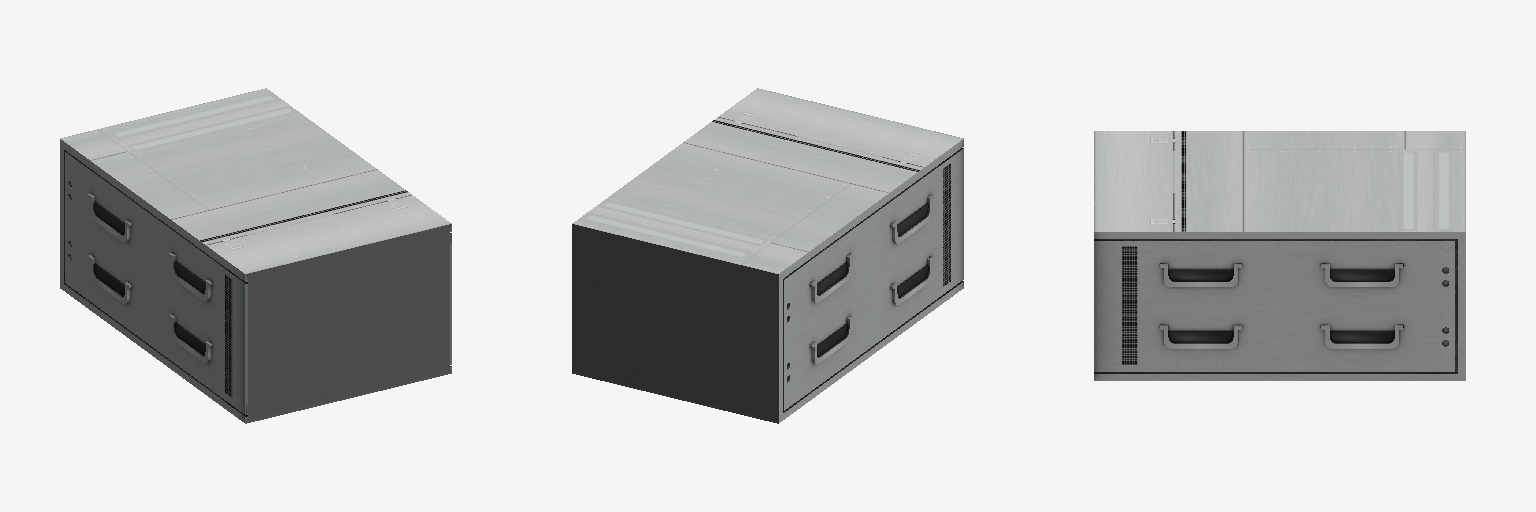
3 views of the same model, side by side, from view 1: azimuth 30°, elevation 25°; view 2: azimuth 150°, elevation 25°; view 3: azimuth 270°, elevation 25° (orthographic).
Parts seen in each view (by area): view 1: Box04; view 2: Box04; view 3: Box04.
Boxes of the visible parts, x1,y1,x2,y2 form: Box04: [60, 88, 451, 423]; Box04: [572, 88, 963, 423]; Box04: [1094, 131, 1465, 380].
Bounding box in the file's own units: 46.31 × 31.15 × 70.
Materials: 1 (1 with a texture image).